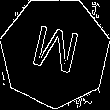M_S: (28, 22, 82, 82)
